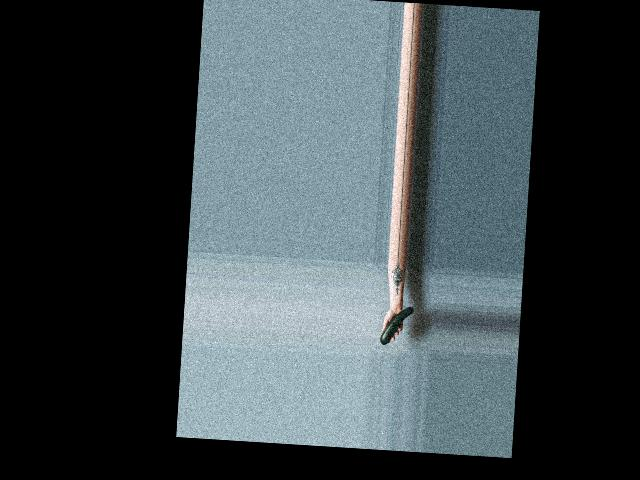cucumber: (380, 305, 414, 346)
